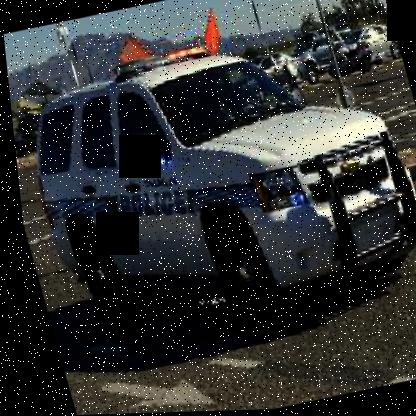emergency: (1, 4, 415, 350)
